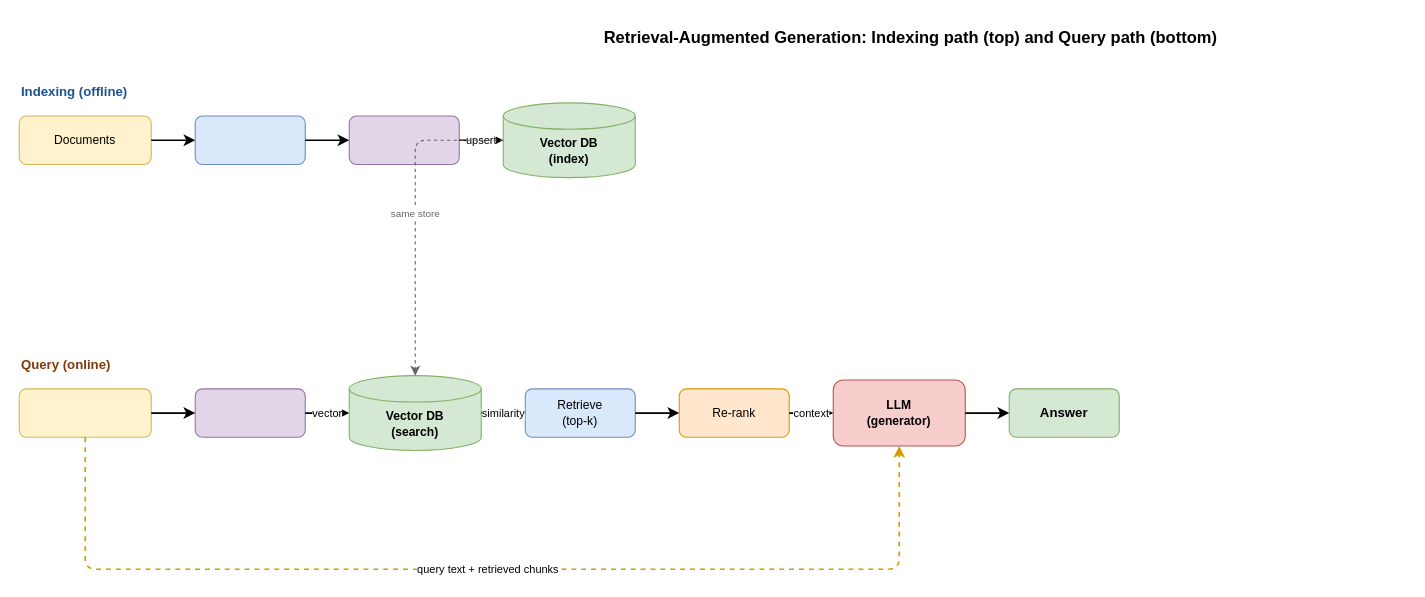
Image size: 1425x597. Some labels were removed from this diagram. Here are the shapes that lost their labels. From the top down, the box of each, then its label:
(194, 115, 305, 164): Chunk
(348, 115, 459, 164): Embed
(18, 388, 151, 437): User query
(194, 388, 305, 437): Embed query
